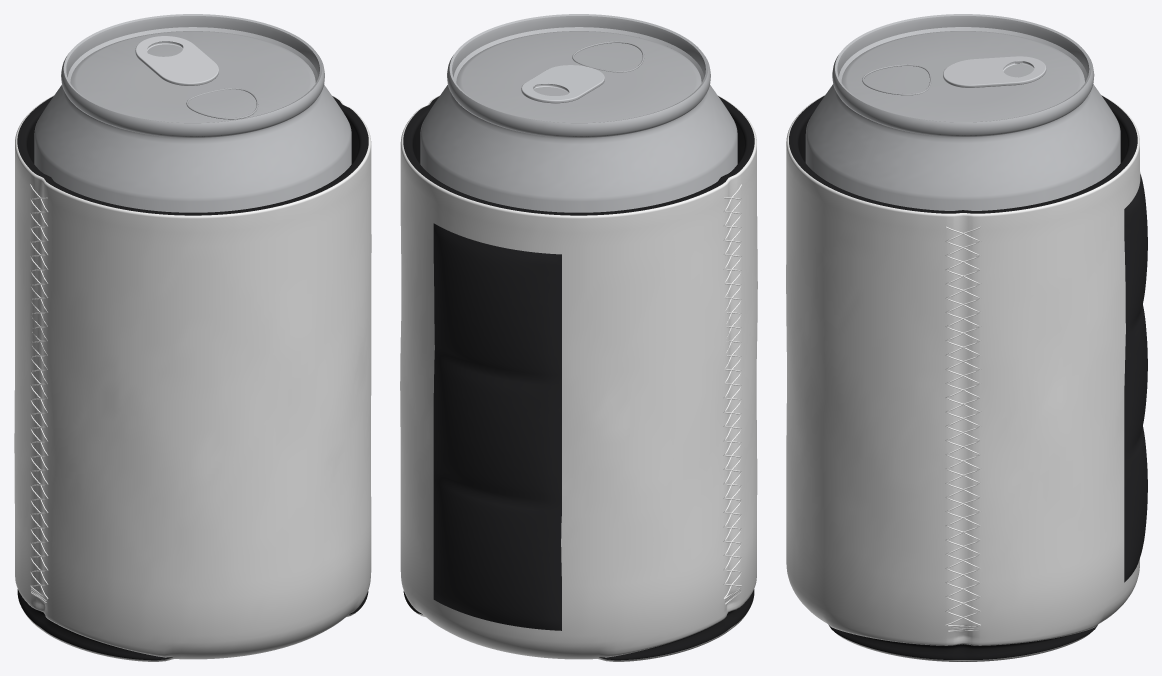
The model's file is can-cooler-standard.glb.
The picture shows the model from 3 angles, left to right: view 1: azimuth 30°, elevation 25°; view 2: azimuth 150°, elevation 25°; view 3: azimuth 270°, elevation 25°; orthographic projection.
Visible parts, largest first — view 1: sleeve, can, can_lid, can_tab, thread; view 2: sleeve, magnet, can, can_lid, thread, can_tab; view 3: sleeve, can, can_lid, magnet, thread, can_tab.
Part boxes in pixels (<box>): sleeve: <box>14,95,371,661</box>; can: <box>34,14,351,212</box>; can_lid: <box>70,31,315,122</box>; can_tab: <box>135,36,218,85</box>; thread: <box>30,184,48,602</box>; sleeve: <box>400,95,757,661</box>; magnet: <box>433,223,561,630</box>; can: <box>420,14,737,212</box>; can_lid: <box>456,31,701,122</box>; thread: <box>723,184,741,604</box>; can_tab: <box>521,65,604,103</box>; sleeve: <box>786,94,1140,661</box>; can: <box>805,14,1120,210</box>; can_lid: <box>841,31,1084,122</box>; magnet: <box>1124,174,1147,582</box>; thread: <box>945,226,981,631</box>; can_tab: <box>943,56,1046,87</box>.
Bounding box in the file's own units: 0.0732 × 0.1189 × 0.0747.
8 materials, 2 textured.
